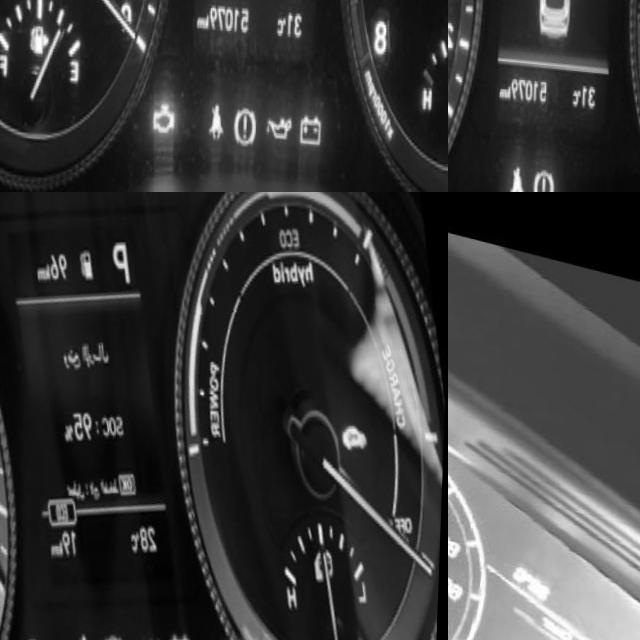Seat Belt: (211, 94, 230, 138), (511, 153, 531, 192)
security: (337, 404, 378, 450)
